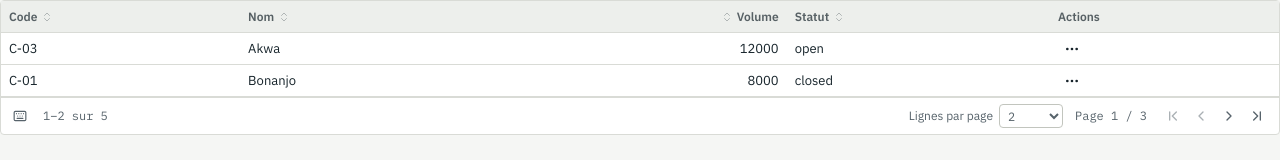
it: DataTable — mode local › pagination : bornes, changement de page et de taille
Later steps or results of the test are not shown.
Expected: the text "1–2 sur 5" is shown, [43,107,108,125]
Expected: the text "Page 1 / 3" is shown, [1075,107,1147,125]
Click the button named "Page suivante": (1229, 116) [1215,102,1243,130]
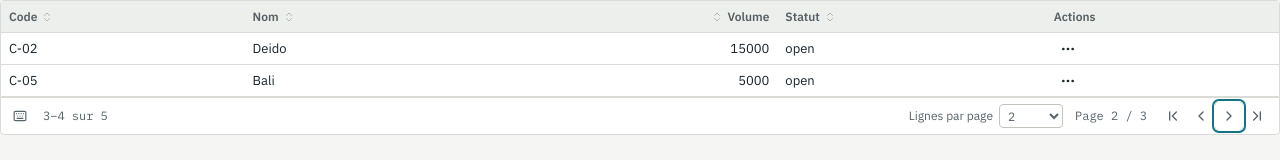
Click the button named "Dernière page": (1257, 116) [1243,102,1271,130]
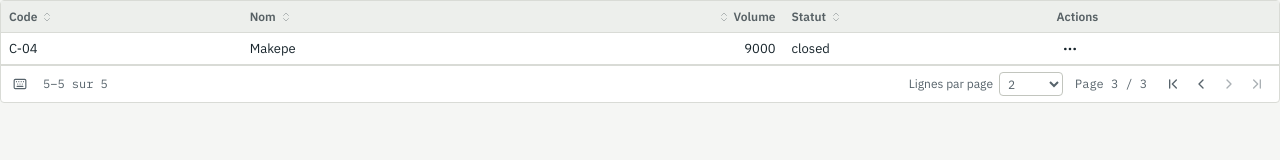
Expected: the button named "Page suivante" is disabled, [1215,70,1243,98]
Result: the text "5–5 sur 5" is shown at [43,75,108,93]
